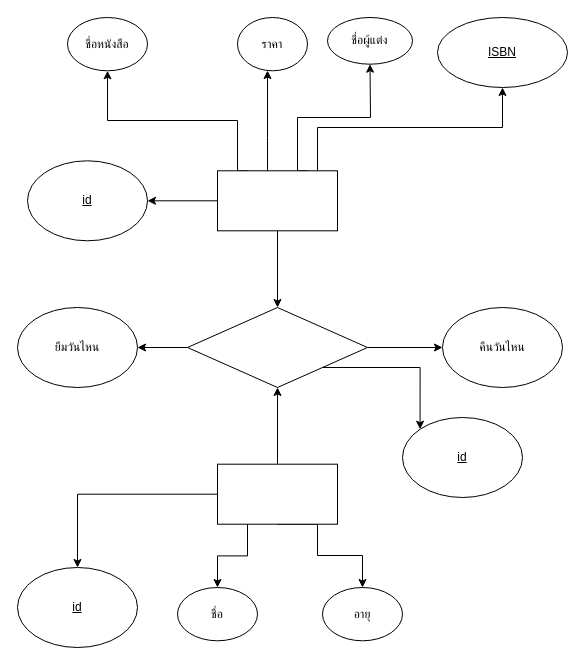
This 585x665 diagram has some shape labels left out. Here are the shapes that lost their labels. From the top down, the centre of each, then its label:
At [277,200]: "เก็บหนังสือ".
At [277,347]: "ยืมเล่มไหน".
At [277,493]: "ผู้ใช้บริการ".
